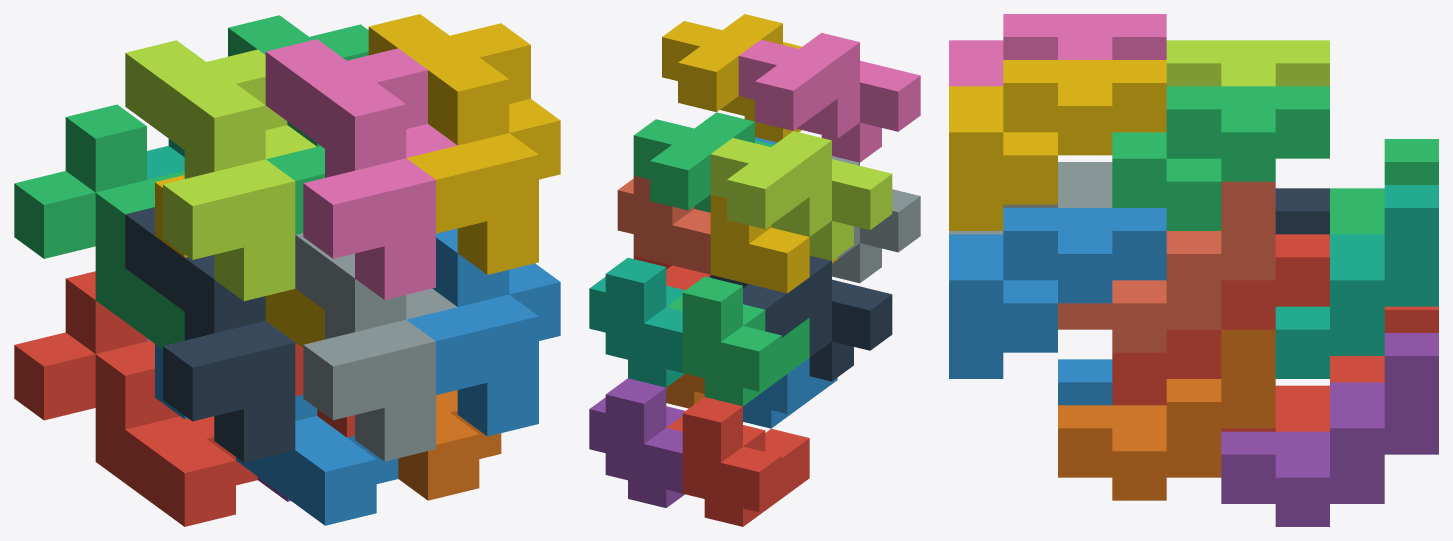
The model's file is tiling.obj.
3 renders of one model, left to right at view 1: azimuth 30°, elevation 25°; view 2: azimuth 150°, elevation 25°; view 3: azimuth 270°, elevation 25°, orthographic. The views are drawn at different scales.
Parts seen in each view (by area): view 1: copy_2_domain_4, copy_2_domain_3, copy_2_domain_8, copy_1_domain_1, copy_2_domain_1, copy_2_domain_2, copy_1_domain_3, copy_2_domain_6, copy_1_domain_2, copy_1_domain_6, copy_2_domain_7, copy_1_domain_4 (+2 smaller); view 2: copy_2_domain_4, copy_2_domain_3, copy_1_domain_1, copy_1_domain_3, copy_2_domain_1, copy_1_domain_7, copy_1_domain_5, copy_2_domain_8, copy_2_domain_7, copy_1_domain_4, copy_1_domain_8, copy_2_domain_2 (+3 smaller); view 3: copy_2_domain_6, copy_2_domain_8, copy_1_domain_5, copy_2_domain_7, copy_1_domain_6, copy_1_domain_7, copy_1_domain_8, copy_2_domain_5, copy_2_domain_4, copy_2_domain_3, copy_1_domain_1, copy_1_domain_3 (+3 smaller).
Part boxes in pixels (<box>): copy_2_domain_4: <box>265,39,457,299</box>; copy_2_domain_3: <box>125,40,316,301</box>; copy_2_domain_8: <box>368,14,560,274</box>; copy_1_domain_1: <box>14,271,257,526</box>; copy_2_domain_1: <box>125,207,295,462</box>; copy_2_domain_2: <box>295,233,457,461</box>; copy_1_domain_3: <box>14,104,184,349</box>; copy_2_domain_6: <box>407,228,560,436</box>; copy_1_domain_2: <box>155,344,398,525</box>; copy_1_domain_6: <box>398,390,501,500</box>; copy_2_domain_7: <box>228,15,368,234</box>; copy_1_domain_4: <box>155,175,324,347</box>; copy_2_domain_4: <box>738,32,920,162</box>; copy_2_domain_3: <box>710,131,892,260</box>; copy_1_domain_1: <box>666,397,809,526</box>; copy_1_domain_3: <box>666,276,809,406</box>; copy_2_domain_1: <box>710,255,892,381</box>; copy_1_domain_7: <box>589,257,684,387</box>; copy_1_domain_5: <box>589,378,684,507</box>; copy_2_domain_8: <box>662,14,801,142</box>; copy_2_domain_7: <box>633,112,773,212</box>; copy_1_domain_4: <box>710,194,837,293</box>; copy_1_domain_8: <box>617,175,710,274</box>; copy_2_domain_2: <box>832,156,920,283</box>; copy_2_domain_6: <box>949,208,1166,378</box>; copy_2_domain_8: <box>949,60,1166,230</box>; copy_1_domain_5: <box>1221,333,1438,526</box>; copy_2_domain_7: <box>1112,86,1329,230</box>; copy_1_domain_6: <box>1058,329,1275,500</box>; copy_1_domain_7: <box>1275,185,1438,378</box>; copy_1_domain_8: <box>1058,181,1275,352</box>; copy_2_domain_5: <box>1112,234,1329,405</box>; copy_2_domain_4: <box>949,14,1166,86</box>; copy_2_domain_3: <box>1166,40,1329,86</box>; copy_1_domain_1: <box>1221,306,1438,431</box>; copy_1_domain_3: <box>1330,139,1438,234</box>.
Size of the model in its own units: 6 by 9 by 9.
